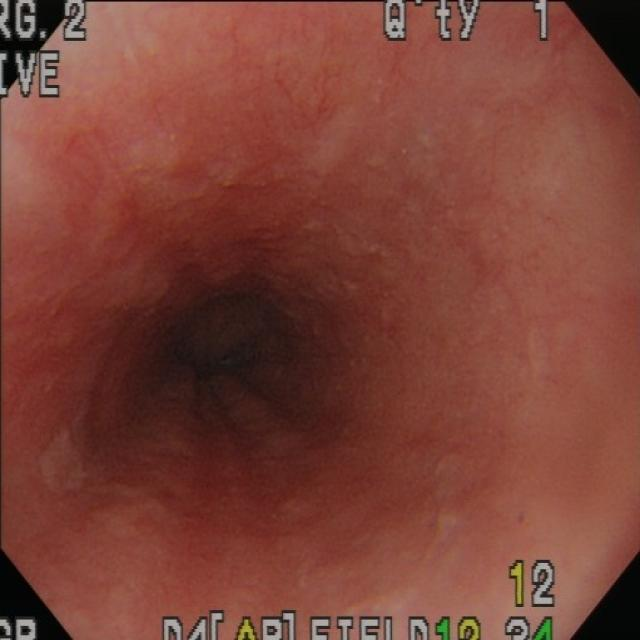E: (135, 267, 317, 435)
J: (38, 424, 93, 498)
S: (160, 611, 483, 640), (383, 3, 558, 45), (3, 3, 83, 45), (3, 50, 63, 102), (507, 561, 556, 611), (506, 617, 556, 640), (2, 617, 39, 640)
